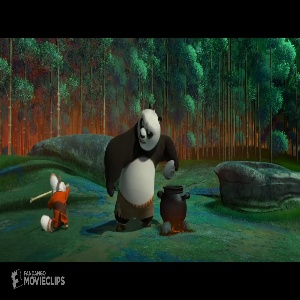po: (101, 102, 181, 231)
shifu: (39, 172, 72, 233)
